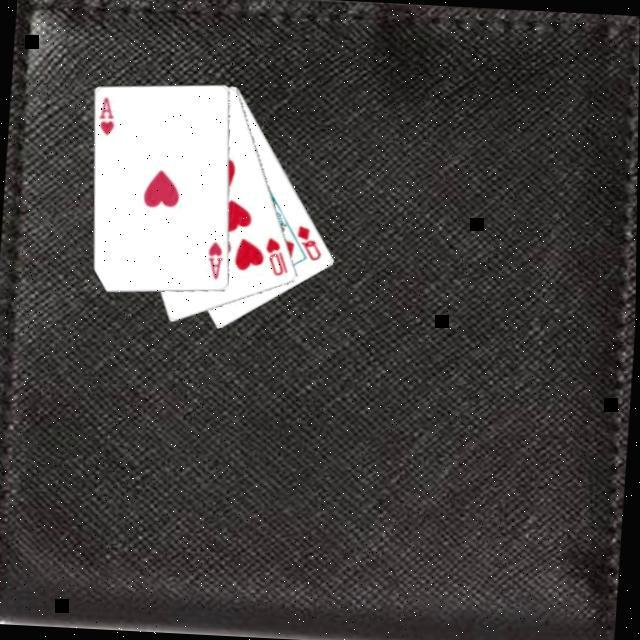10H: (260, 236, 292, 282)
AH: (94, 95, 118, 140), (203, 240, 226, 284)
QD: (291, 224, 325, 266)
